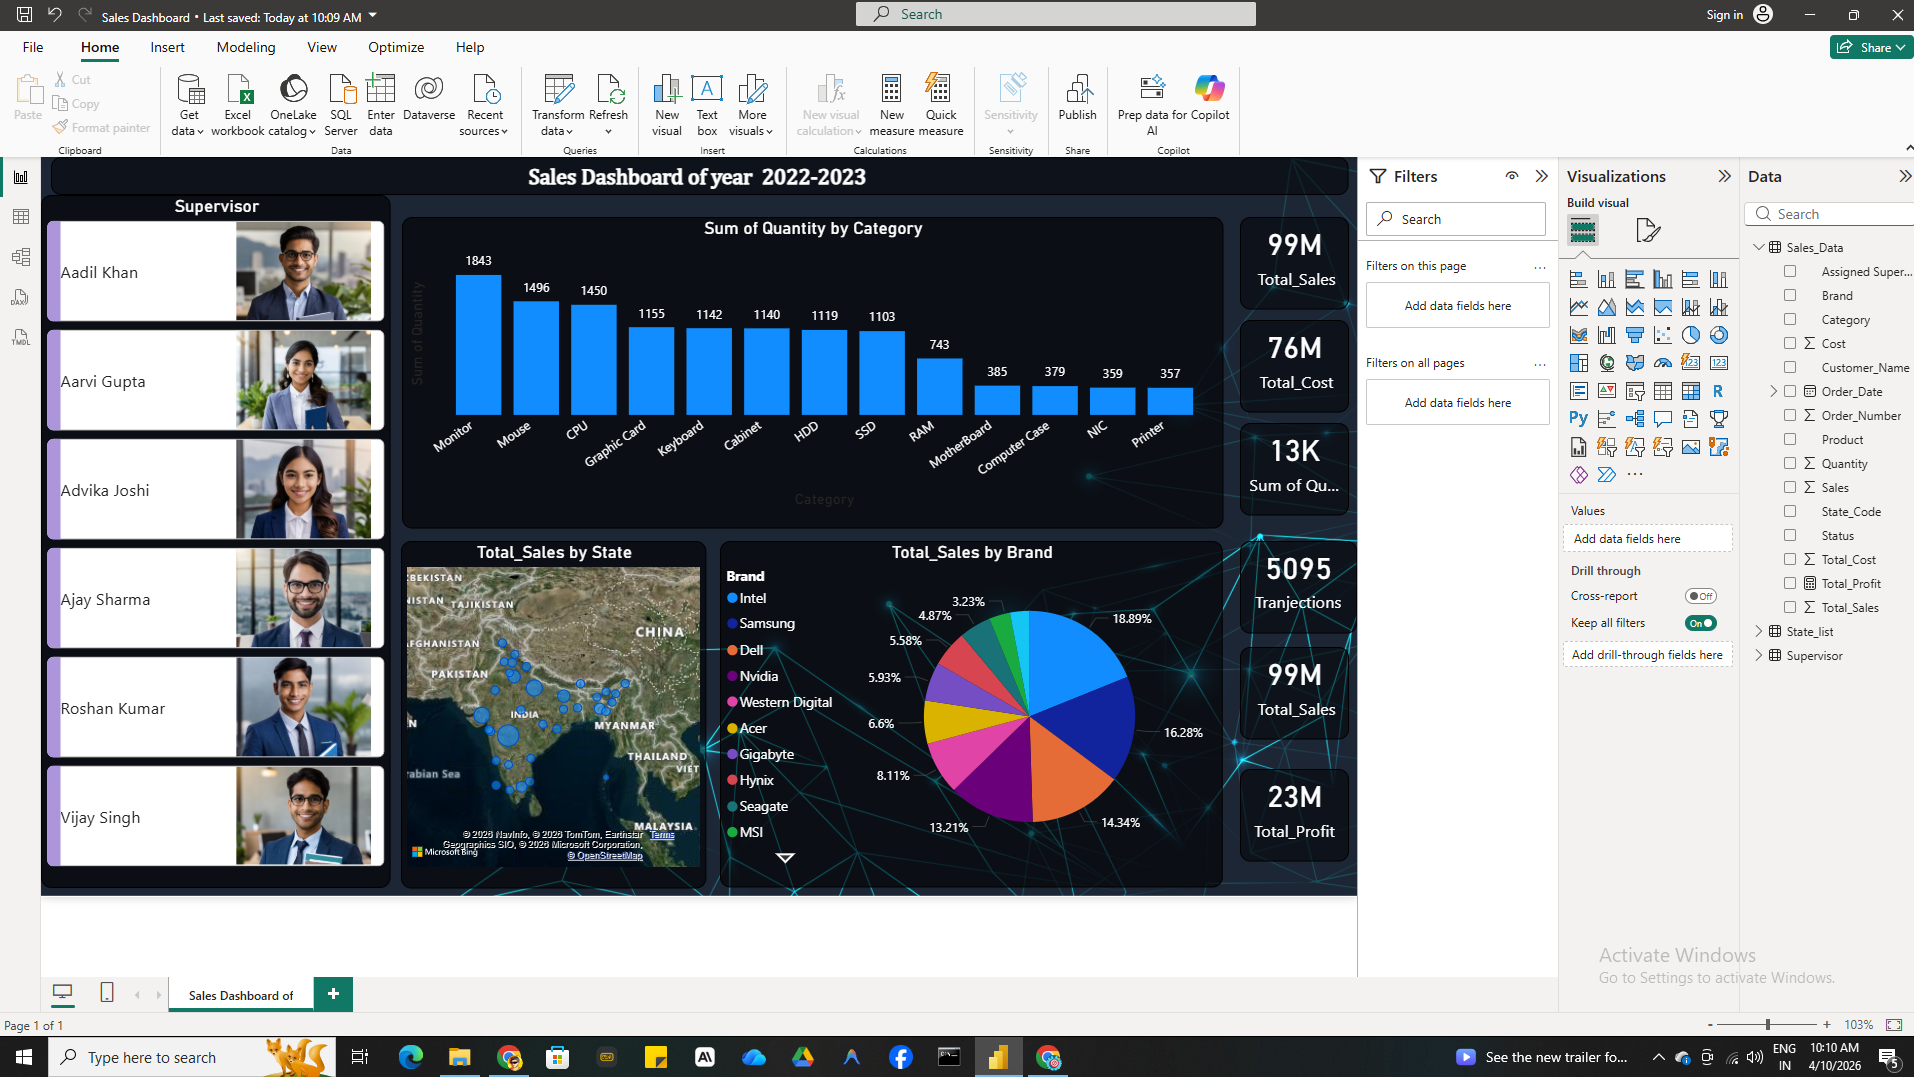

This screenshot's page, from the dashboard's own definition file:
{"tool":"powerbi","page":{"name":"sales-dashboard-2022-23.pbix ","canvas":[1280,720],"ordinal":0},"visuals":[{"type":"textbox","box":[9.7,0,1262.5,37],"z":0},{"type":"card","fields":{"Values":["Sum(Sales_Data.Total_Sales)"]},"box":[1166.2,58.4,106,90.5],"z":1000},{"type":"card","fields":{"Values":["Sum(Sales_Data.Quantity)"]},"box":[1166.2,258.7,106,90.5],"z":2000},{"type":"card","fields":{"Values":["Sum(Sales_Data.Total_Cost)"]},"box":[1166.2,158.5,106,90.5],"z":3000},{"type":"card","fields":{"Values":["CountNonNull(Sales_Data.Order_Number)"]},"box":[1166.4,373.6,113.6,90],"z":4000},{"type":"card","fields":{"Values":["Sum(Sales_Data.Total_Sales)"]},"box":[1166.2,476.6,106,90.5],"z":5000},{"type":"card","fields":{"Values":["Sales_Data.Total_Profit"]},"box":[1166,595.3,106.2,90.4],"z":6000},{"type":"clusteredColumnChart","fields":{"Category":["Sales_Data.Category"],"Y":["Sum(Sales_Data.Quantity)"]},"box":[351.1,58.4,798.5,303.5],"z":7000},{"type":"pieChart","fields":{"Y":["Sum(Sales_Data.Total_Sales)"],"Category":["Sales_Data.Brand"]},"box":[660,373.6,489.1,337.3],"z":8000},{"type":"map","title":" Total_Sales by State","fields":{"Category":["State_list.State"],"Size":["Sum(Sales_Data.Total_Sales)"]},"box":[350.2,373.5,296.7,337.5],"z":9000},{"type":"advancedSlicerVisual","fields":{"Values":["Supervisor.Supervisor"]},"box":[0,37,340.4,674],"z":10000}]}

Visuals, with their boxes on the page's 1280x720 design canvas (x1, y1, x2, y2). These are canvas units, not pixel positions in the 1914x1077 screenshot, which may show the page scaled, cropped or inside an application window:
textbox: <bbox>10, 0, 1272, 37</bbox>
card - Sum(Sales_Data.Total_Sales): <bbox>1166, 58, 1272, 149</bbox>
card - Sum(Sales_Data.Quantity): <bbox>1166, 259, 1272, 349</bbox>
card - Sum(Sales_Data.Total_Cost): <bbox>1166, 158, 1272, 249</bbox>
card - CountNonNull(Sales_Data.Order_Number): <bbox>1166, 374, 1280, 464</bbox>
card - Sum(Sales_Data.Total_Sales): <bbox>1166, 477, 1272, 567</bbox>
card - Sales_Data.Total_Profit: <bbox>1166, 595, 1272, 686</bbox>
clusteredColumnChart - Sales_Data.Category x Sum(Sales_Data.Quantity): <bbox>351, 58, 1150, 362</bbox>
pieChart - Sum(Sales_Data.Total_Sales) x Sales_Data.Brand: <bbox>660, 374, 1149, 711</bbox>
" Total_Sales by State" map: <bbox>350, 374, 647, 711</bbox>
advancedSlicerVisual - Supervisor.Supervisor: <bbox>0, 37, 340, 711</bbox>
